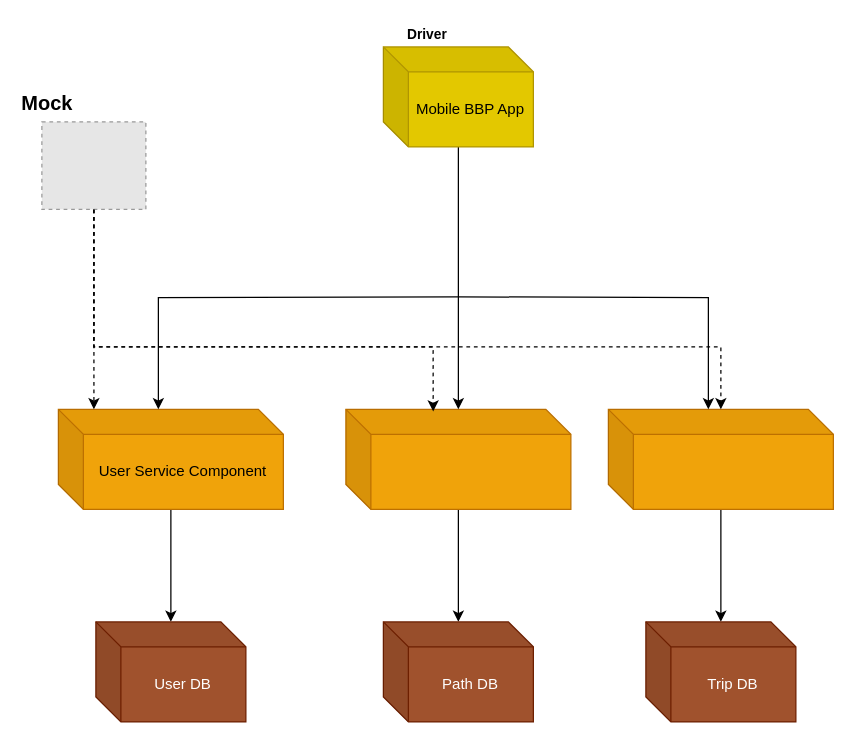
Some shapes in this 856 by 744 pixel diagram are drawn without their labels. Grey dashed boxes stand in for pictures. The centre of each missing label's shape, as x and y in pixels:
"Path Service Component" belongs at pixel 458 458.
"Trip Service Component" belongs at pixel 720 458.
